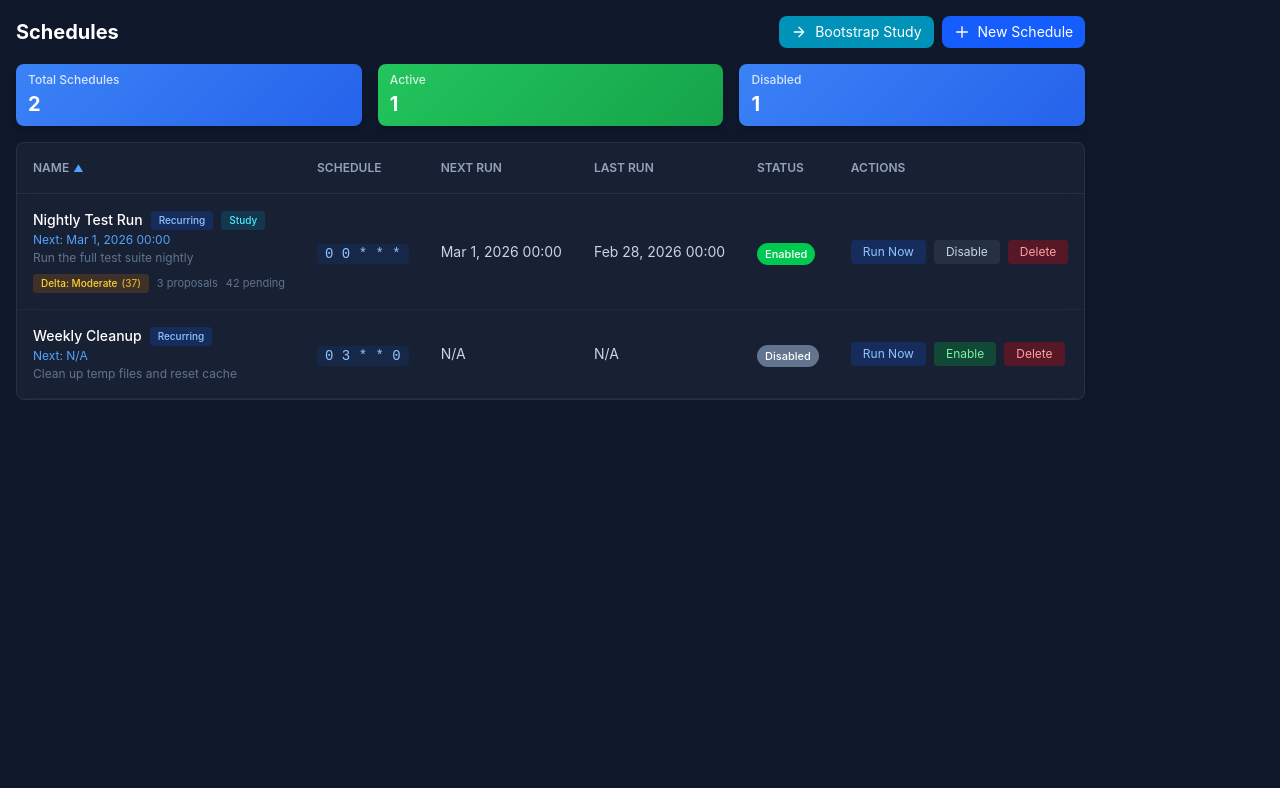
Test: Schedules › toggles form visibility when New Schedule is clicked
This screenshot has width=1280, height=788.
Check: the text "New Scheduled Task" is not shown
Note: Click New Schedule to open form
Step 1. Click the button "New Schedule" → (1013, 32), box [942, 16, 1085, 48]
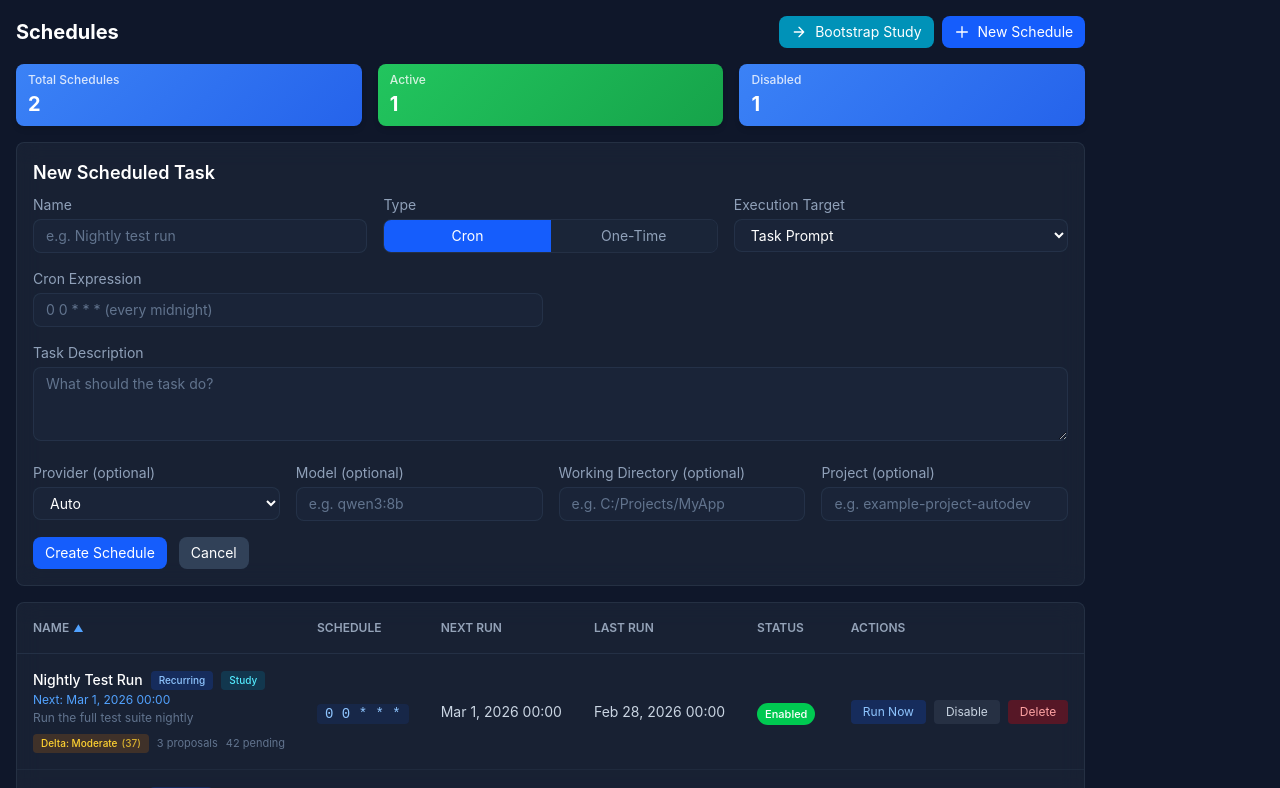
Check: the heading "New Scheduled Task" is shown, box [33, 162, 215, 183]
